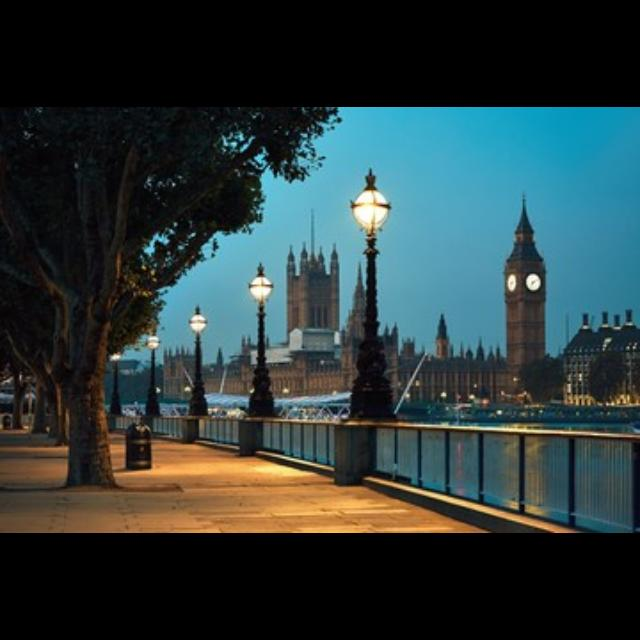Street-Lamp: (336, 157, 419, 420)
